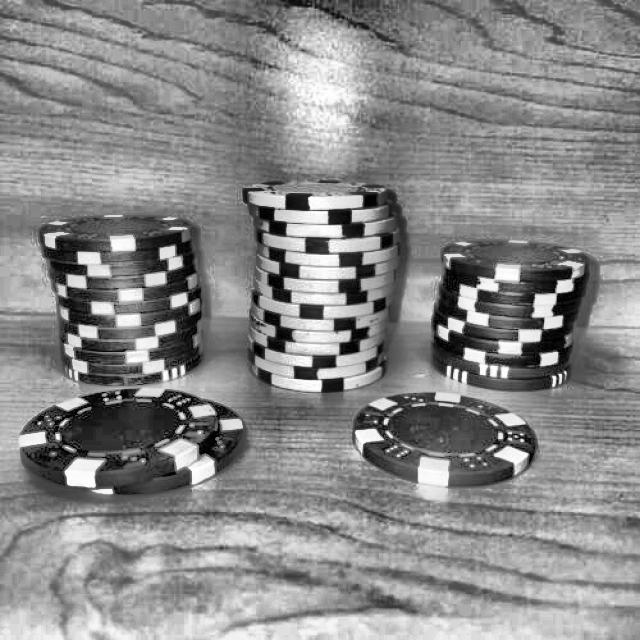Chip: (238, 174, 408, 394), (32, 209, 214, 392), (3, 381, 264, 502), (428, 229, 602, 395), (345, 382, 545, 492)
